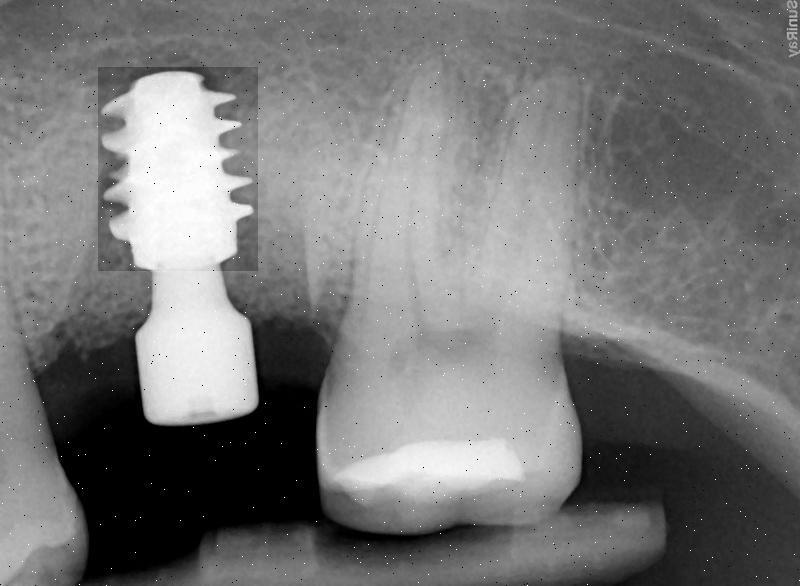Straumann: (94, 63, 262, 273)
